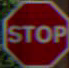Stop: (5, 8, 65, 54)
